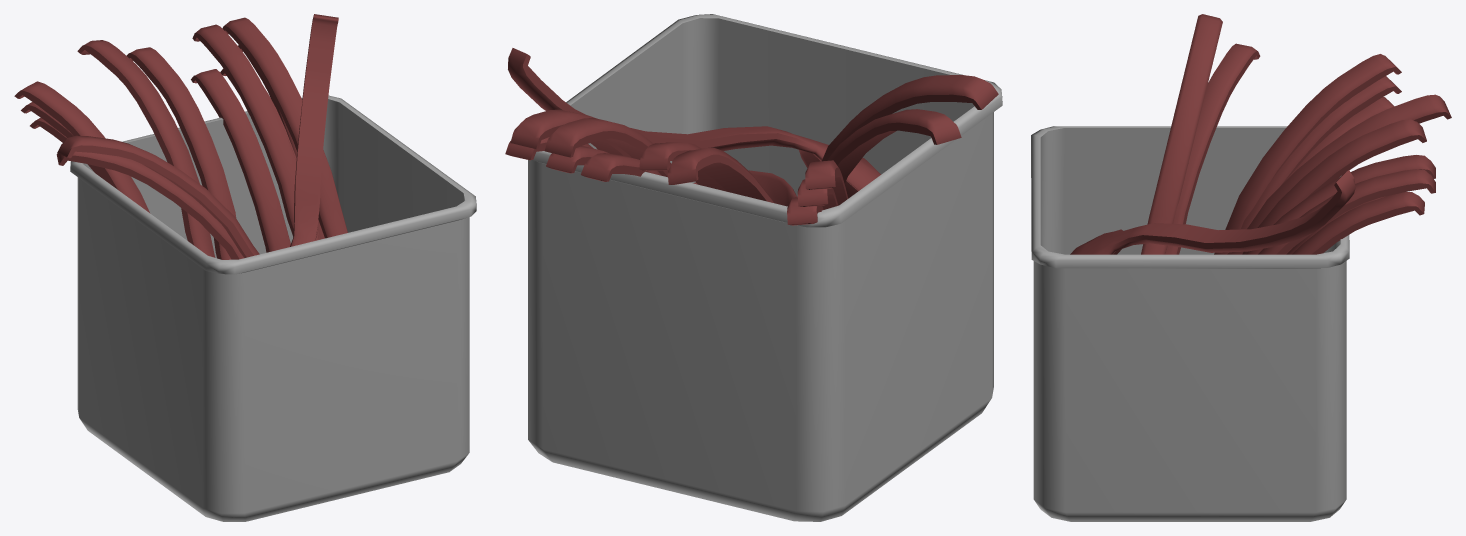
File: BgMD_Nagi_RengePot_01.fbx
3 renders of one model, left to right at view 1: azimuth 30°, elevation 25°; view 2: azimuth 150°, elevation 25°; view 3: azimuth 270°, elevation 25°, orthographic. The views are drawn at different scales.
Parts seen in each view (by area): view 1: BgMD_Nagi_RengePot_01, BgMD_Nagi_Renge_15; view 2: BgMD_Nagi_RengePot_01, BgMD_Nagi_Renge_15; view 3: BgMD_Nagi_RengePot_01, BgMD_Nagi_Renge_15.
Part boxes in pixels (x1=…): BgMD_Nagi_RengePot_01: x1=70, y1=95, x2=476, y2=521; BgMD_Nagi_Renge_15: x1=14, y1=14, x2=347, y2=259; BgMD_Nagi_RengePot_01: x1=528, y1=14, x2=1002, y2=521; BgMD_Nagi_Renge_15: x1=505, y1=48, x2=998, y2=225; BgMD_Nagi_RengePot_01: x1=1031, y1=126, x2=1349, y2=521; BgMD_Nagi_Renge_15: x1=1070, y1=14, x2=1451, y2=254.
Size of the model in its own units: 15.72 by 15.17 by 16.53.
